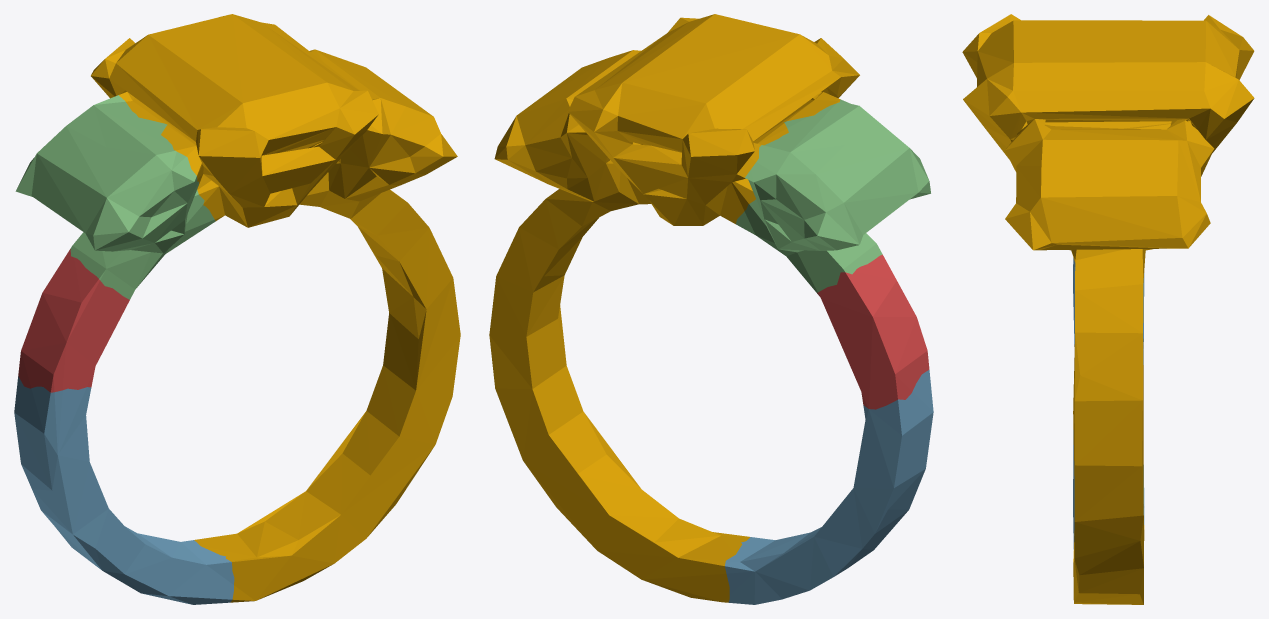
Rendered from fractured_20_4pcs.glb.
The picture shows the model from 3 angles, left to right: view 1: azimuth 30°, elevation 25°; view 2: azimuth 150°, elevation 25°; view 3: azimuth 270°, elevation 25°; orthographic projection. The views are drawn at different scales.
Visible parts, largest first — view 1: piece_0.obj, piece_3.obj, piece_2.obj, piece_1.obj; view 2: piece_0.obj, piece_3.obj, piece_2.obj, piece_1.obj; view 3: piece_0.obj, piece_2.obj.
Boxes of the visible parts, bbox=[...] form: piece_0.obj: bbox=[91, 14, 460, 602]; piece_3.obj: bbox=[15, 95, 215, 299]; piece_2.obj: bbox=[14, 376, 234, 604]; piece_1.obj: bbox=[18, 249, 129, 392]; piece_0.obj: bbox=[489, 14, 859, 602]; piece_3.obj: bbox=[736, 99, 930, 292]; piece_2.obj: bbox=[725, 369, 933, 604]; piece_1.obj: bbox=[817, 254, 929, 409]; piece_0.obj: bbox=[962, 14, 1254, 604]; piece_2.obj: bbox=[1073, 257, 1144, 549].
Size of the model in its own units: 0.8178 by 1 by 0.4887.
